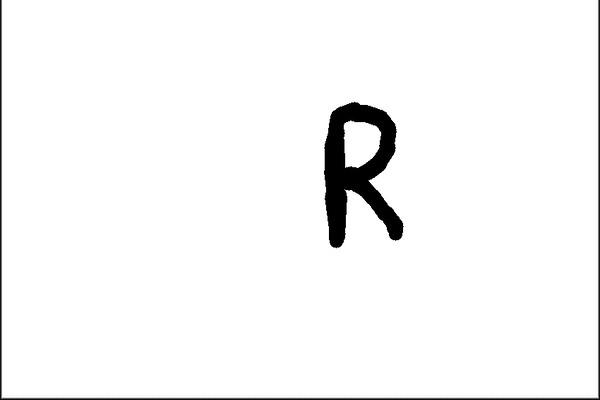R: (305, 95, 423, 258)
